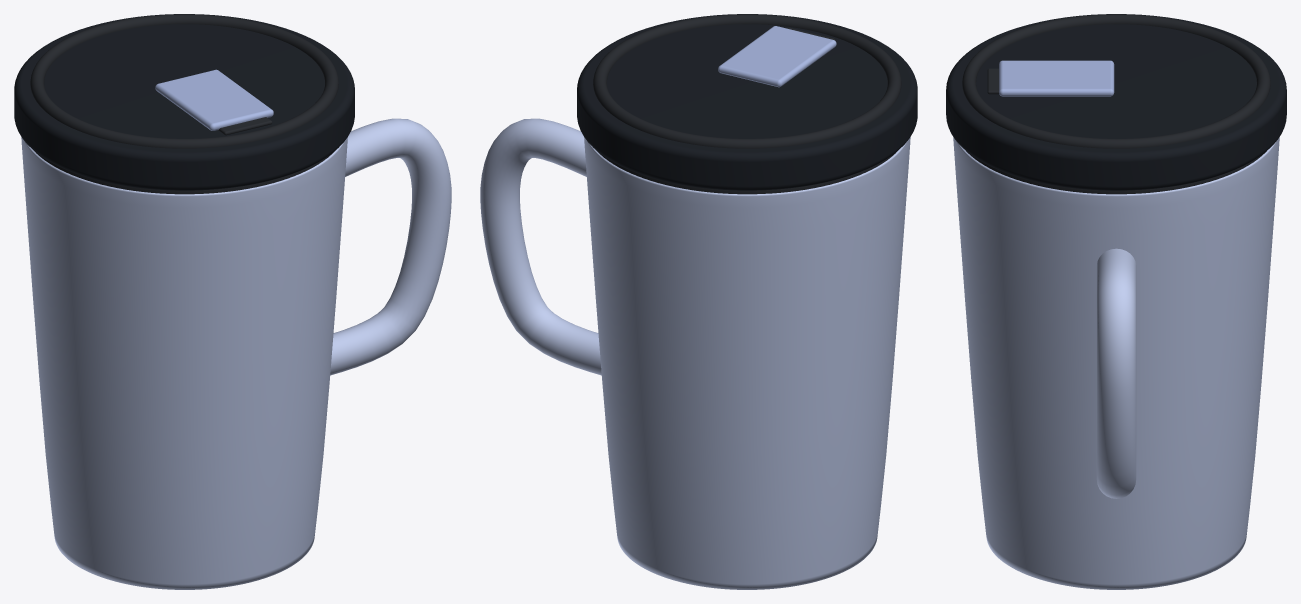
File: travel-mug.glb
3 renders of one model, left to right at view 1: azimuth 30°, elevation 25°; view 2: azimuth 150°, elevation 25°; view 3: azimuth 270°, elevation 25°, orthographic.
Visible parts, largest first — view 1: sculpted-surface, sealed-lid-004, double-wall-cup-002, sealed-lid-005, sliding-sip-cover-006, machined-annular-ring; view 2: sculpted-surface, sealed-lid-004, double-wall-cup-002, sealed-lid-005, sliding-sip-cover-006, machined-annular-ring; view 3: sculpted-surface, sealed-lid-004, double-wall-cup-002, sealed-lid-005, sliding-sip-cover-006, machined-annular-ring.
Part boxes in pixels (x1=…): sculpted-surface: x1=21, y1=137, x2=347, y2=589; sealed-lid-004: x1=14, y1=14, x2=354, y2=190; double-wall-cup-002: x1=330, y1=118, x2=451, y2=375; sealed-lid-005: x1=30, y1=14, x2=338, y2=148; sliding-sip-cover-006: x1=155, y1=69, x2=273, y2=130; machined-annular-ring: x1=34, y1=150, x2=335, y2=194; sculpted-surface: x1=584, y1=137, x2=910, y2=589; sealed-lid-004: x1=577, y1=14, x2=917, y2=190; double-wall-cup-002: x1=480, y1=118, x2=601, y2=375; sealed-lid-005: x1=593, y1=14, x2=901, y2=148; sliding-sip-cover-006: x1=718, y1=26, x2=836, y2=87; machined-annular-ring: x1=596, y1=150, x2=897, y2=194; sculpted-surface: x1=953, y1=137, x2=1279, y2=589; sealed-lid-004: x1=946, y1=14, x2=1286, y2=190; double-wall-cup-002: x1=1096, y1=248, x2=1136, y2=498; sealed-lid-005: x1=962, y1=14, x2=1270, y2=148; sliding-sip-cover-006: x1=999, y1=60, x2=1114, y2=96; machined-annular-ring: x1=966, y1=151, x2=1266, y2=194.
Bounding box in the file's own units: 1.87 × 2 × 1.34.
